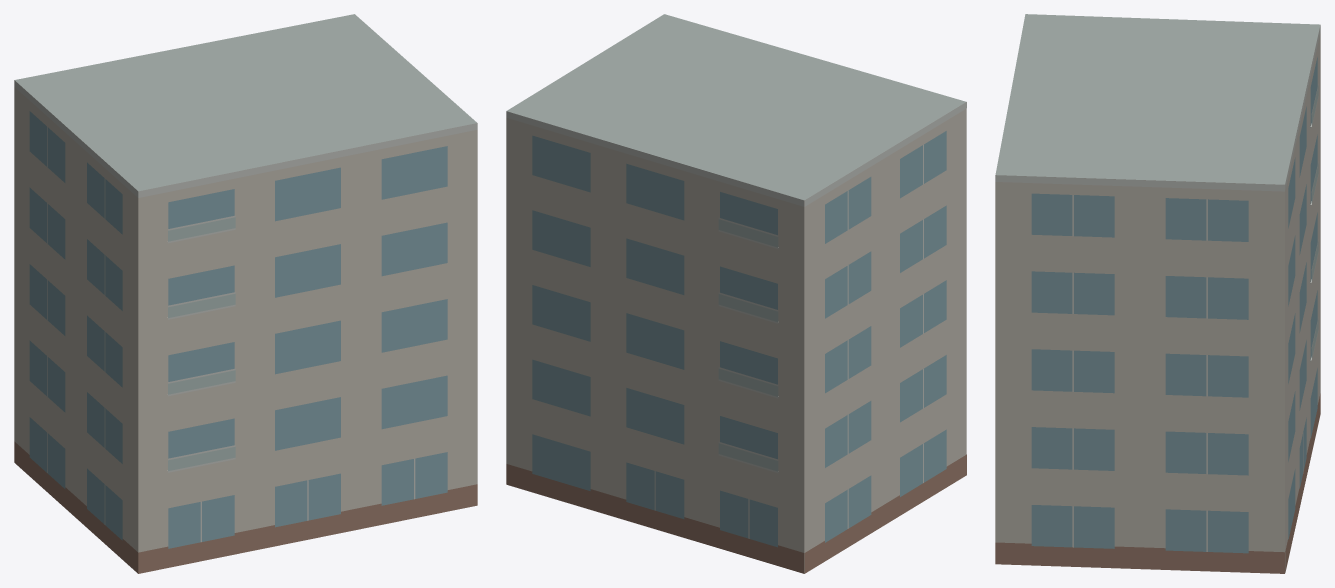
File: survey-upis-32527829.glb
3 renders of one model, left to right at view 1: azimuth 30°, elevation 25°; view 2: azimuth 150°, elevation 25°; view 3: azimuth 270°, elevation 25°, orthographic. The views are drawn at different scales.
Parts seen in each view (by area): view 1: survey-upis-32527829.tmp; view 2: survey-upis-32527829.tmp; view 3: survey-upis-32527829.tmp.
Boxes of the visible parts, x1=… form: survey-upis-32527829.tmp: x1=14, y1=14, x2=477, y2=573; survey-upis-32527829.tmp: x1=506, y1=14, x2=966, y2=573; survey-upis-32527829.tmp: x1=995, y1=14, x2=1320, y2=573.
Size of the model in its own units: 13.09 by 13.9 by 10.54.
